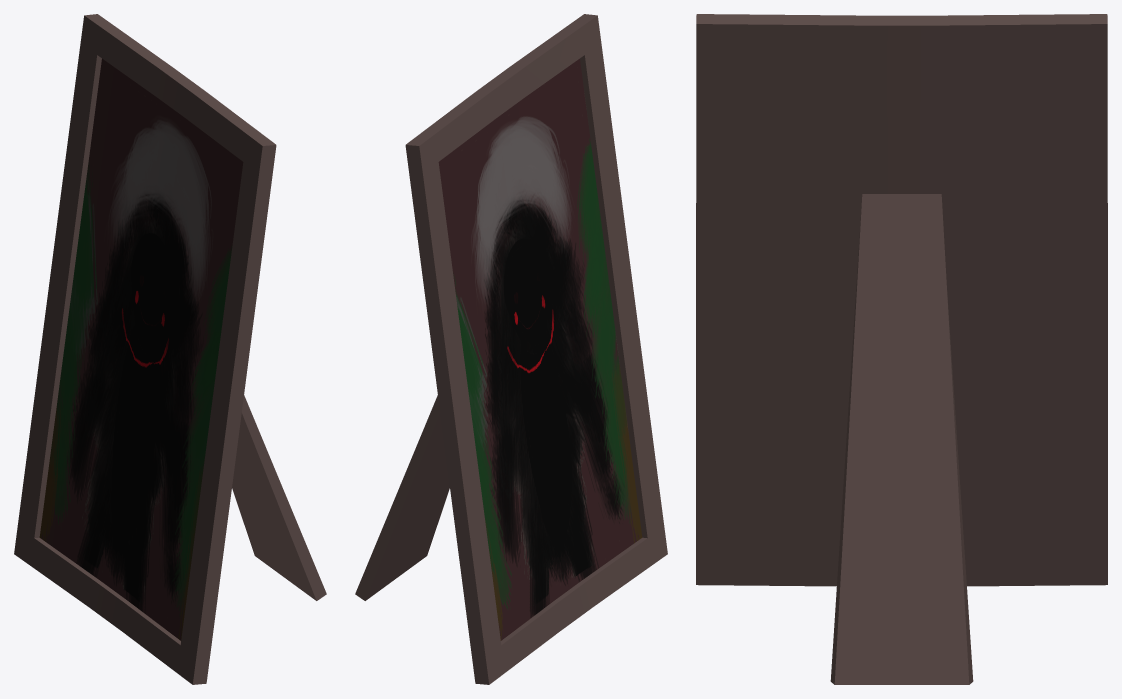
File: Tavla1.fbx
The picture shows the model from 3 angles, left to right: view 1: azimuth 30°, elevation 25°; view 2: azimuth 150°, elevation 25°; view 3: azimuth 270°, elevation 25°; orthographic projection. The views are drawn at different scales.
Parts seen in each view (by area): view 1: pCube1; view 2: pCube1; view 3: pCube1.
Boxes of the visible parts, x1,y1,x2,y2 form: pCube1: (14, 14, 326, 684); pCube1: (355, 14, 667, 684); pCube1: (696, 14, 1107, 684).
Size of the model in its own units: 2.63 by 6.79 by 4.19.
Materials: 1 (1 with a texture image).
